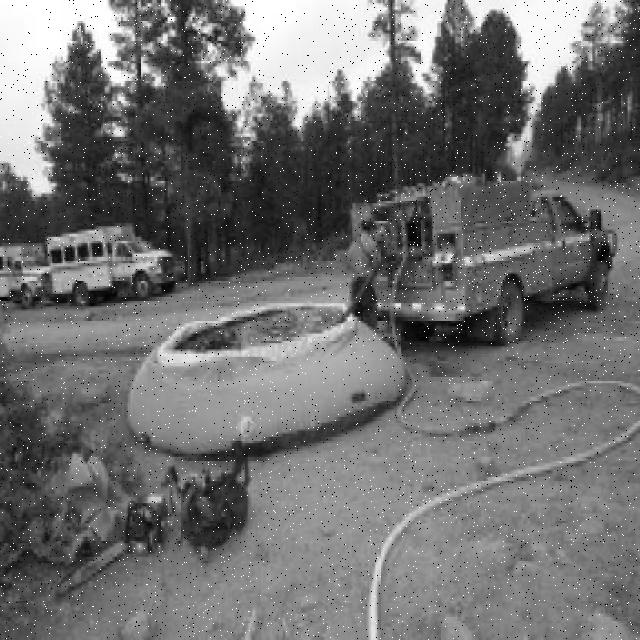Pickup- Utility: (358, 177, 618, 344)
